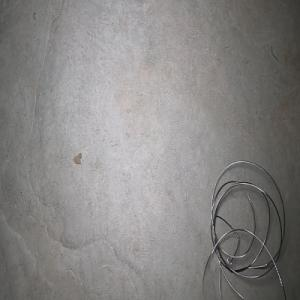Wire: (202, 160, 286, 300)
